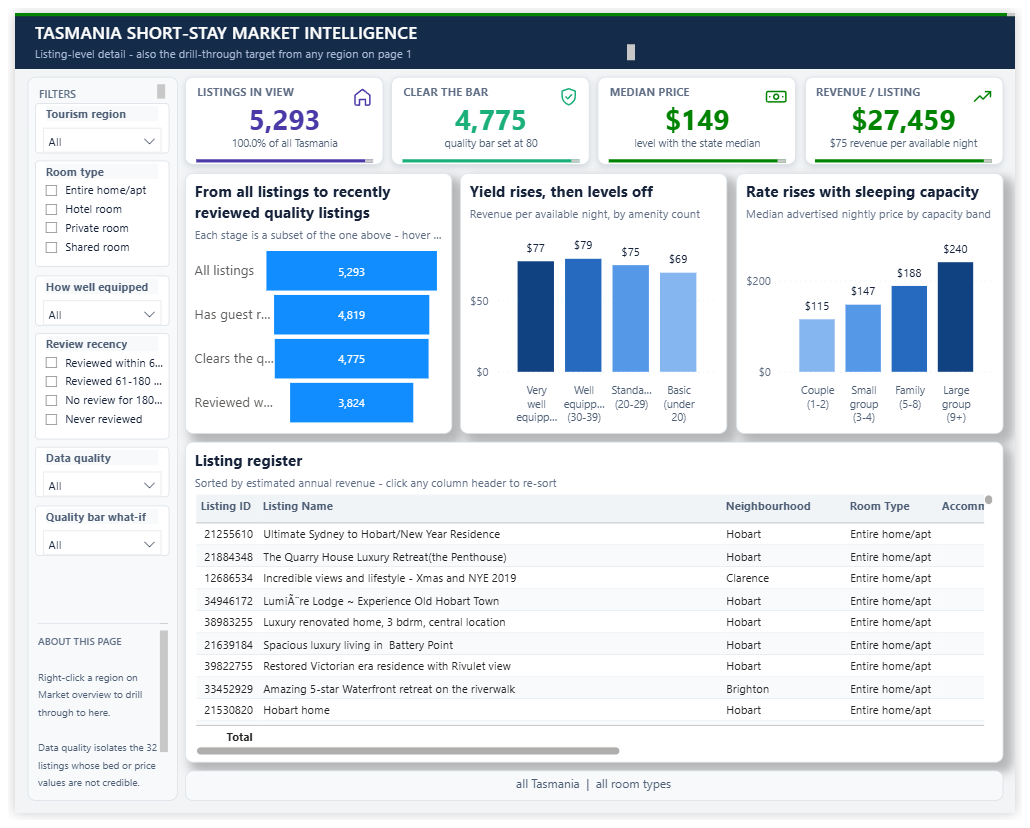

The dashboard page shown, as its layout file describes it:
{"tool":"powerbi","page":{"name":"Listing explorer","canvas":[1000,800],"ordinal":3},"visuals":[{"type":"textbox","box":[0,0,1000,56],"z":47},{"type":"textbox","box":[0,0,1000,3],"z":48},{"type":"textbox","box":[12,64,150,724],"z":49},{"type":"textbox","box":[22,610,130,1],"z":50},{"type":"textbox","box":[170,64,198.5,88],"z":51},{"type":"textbox","box":[181,146,176.5,3],"z":52},{"type":"textbox","box":[376.5,64,198.5,88],"z":53},{"type":"textbox","box":[387.5,146,176.5,3],"z":54},{"type":"textbox","box":[583,64,198.5,88],"z":55},{"type":"textbox","box":[594,146,176.5,3],"z":56},{"type":"textbox","box":[789.5,64,198.5,88],"z":57},{"type":"textbox","box":[800.5,146,176.5,3],"z":58},{"type":"textbox","box":[20,7,600,22],"z":183},{"type":"textbox","box":[20,31,600,16],"z":184},{"type":"textbox","box":[24,71,126,14],"z":185},{"type":"slicer","fields":{"Values":["Geography.Region"]},"box":[20,90,134,50],"z":186},{"type":"slicer","fields":{"Values":["Listing.Room Type"]},"box":[20,148,134,106],"z":187},{"type":"slicer","fields":{"Values":["Listing.Amenity Band"]},"box":[20,262,134,50],"z":188},{"type":"slicer","fields":{"Values":["Listing.Listing Status"]},"box":[20,320,134,106],"z":189},{"type":"slicer","fields":{"Values":["Listing.Data Quality Flag"]},"box":[20,434,134,50],"z":190},{"type":"slicer","fields":{"Values":["Rating Threshold.Minimum Guest Rating"]},"box":[20,492,134,50],"z":191},{"type":"textbox","box":[22,618,130,160],"z":192},{"type":"card","title":"LISTINGS IN VIEW","fields":{"Values":["Listing.Total Listings"]},"box":[171,66,196.5,56],"z":193},{"type":"card","fields":{"Values":["Listing.KPI Listings Context"]},"box":[171,123,196.5,21],"z":194},{"type":"image","box":[336.5,72,22,22],"z":195},{"type":"card","title":"CLEAR THE BAR","fields":{"Values":["Listing.Listings Above Rating Bar"]},"box":[377.5,66,196.5,56],"z":196},{"type":"card","fields":{"Values":["Listing.KPI Bar Context"]},"box":[377.5,123,196.5,21],"z":197},{"type":"image","box":[543,72,22,22],"z":198},{"type":"card","title":"MEDIAN PRICE","fields":{"Values":["Listing.Median Nightly Price"]},"box":[584,66,196.5,56],"z":199},{"type":"card","fields":{"Values":["Listing.KPI Price Context"]},"box":[584,123,196.5,21],"z":200},{"type":"image","box":[749.5,72,22,22],"z":201},{"type":"card","title":"REVENUE / LISTING","fields":{"Values":["Listing.Est. Revenue per Listing"]},"box":[790.5,66,196.5,56],"z":202},{"type":"card","fields":{"Values":["Listing.KPI Yield Context"]},"box":[790.5,123,196.5,21],"z":203},{"type":"image","box":[956,72,22,22],"z":204},{"type":"funnel","title":"From all listings to recently reviewed quality listings","fields":{"Category":["Funnel Stage.Stage"],"Y":["Listing.Funnel Value"]},"box":[170,160,267.3,261],"z":205},{"type":"clusteredColumnChart","title":"Yield rises, then levels off","fields":{"Category":["Listing.Amenity Band"],"Y":["Listing.Avg RevPAN"]},"box":[445.3,160,267.3,261],"z":206},{"type":"clusteredColumnChart","title":"Rate rises with sleeping capacity","fields":{"Category":["Listing.Capacity Band"],"Y":["Listing.Median Nightly Price"]},"box":[720.7,160,267.3,261],"z":207},{"type":"tableEx","title":"Listing register","fields":{"Values":["Listing.Listing ID","Listing.Listing Name","Geography.Neighbourhood","Listing.Room Type","Listing.Accommodates","Listing.Median Nightly Price","Listing.Est. Occupancy Rate","Listing.Est. Annual Revenue","Listing.Avg Guest Rating","Listing.Listing Performance Flag"]},"box":[170,429,818,321],"z":208},{"type":"card","fields":{"Values":["Listing.Selection Context"]},"box":[170,758,818,30],"z":209},{"type":"actionButton","box":[626,15,84,26],"z":9500},{"type":"actionButton","box":[716,15,84,26],"z":9500},{"type":"actionButton","box":[806,15,84,26],"z":9500},{"type":"actionButton","box":[896,15,84,26],"z":9500},{"type":"actionButton","box":[20,552,134,28],"z":9500}]}

Visuals, with their boxes in screenshot pixels (x1, y1, x2, y2), scaled from the page's 1000x800 canvas onto the 1030x828 screenshot:
textbox: left=0, top=0, right=1029, bottom=58
textbox: left=0, top=0, right=1029, bottom=3
textbox: left=12, top=66, right=167, bottom=816
textbox: left=23, top=631, right=157, bottom=632
textbox: left=175, top=66, right=380, bottom=157
textbox: left=186, top=151, right=368, bottom=154
textbox: left=388, top=66, right=592, bottom=157
textbox: left=399, top=151, right=581, bottom=154
textbox: left=600, top=66, right=805, bottom=157
textbox: left=612, top=151, right=794, bottom=154
textbox: left=813, top=66, right=1018, bottom=157
textbox: left=825, top=151, right=1006, bottom=154
textbox: left=21, top=7, right=639, bottom=30
textbox: left=21, top=32, right=639, bottom=49
textbox: left=25, top=73, right=154, bottom=88
slicer - Geography.Region: left=21, top=93, right=159, bottom=145
slicer - Listing.Room Type: left=21, top=153, right=159, bottom=263
slicer - Listing.Amenity Band: left=21, top=271, right=159, bottom=323
slicer - Listing.Listing Status: left=21, top=331, right=159, bottom=441
slicer - Listing.Data Quality Flag: left=21, top=449, right=159, bottom=501
slicer - Rating Threshold.Minimum Guest Rating: left=21, top=509, right=159, bottom=561
textbox: left=23, top=640, right=157, bottom=805
"LISTINGS IN VIEW" card: left=176, top=68, right=379, bottom=126
card - Listing.KPI Listings Context: left=176, top=127, right=379, bottom=149
image: left=347, top=75, right=369, bottom=97
"CLEAR THE BAR" card: left=389, top=68, right=591, bottom=126
card - Listing.KPI Bar Context: left=389, top=127, right=591, bottom=149
image: left=559, top=75, right=582, bottom=97
"MEDIAN PRICE" card: left=602, top=68, right=804, bottom=126
card - Listing.KPI Price Context: left=602, top=127, right=804, bottom=149
image: left=772, top=75, right=795, bottom=97
"REVENUE / LISTING" card: left=814, top=68, right=1017, bottom=126
card - Listing.KPI Yield Context: left=814, top=127, right=1017, bottom=149
image: left=985, top=75, right=1007, bottom=97
"From all listings to recently reviewed quality listings" funnel: left=175, top=166, right=450, bottom=436
"Yield rises, then levels off" clusteredColumnChart: left=459, top=166, right=734, bottom=436
"Rate rises with sleeping capacity" clusteredColumnChart: left=742, top=166, right=1018, bottom=436
"Listing register" tableEx: left=175, top=444, right=1018, bottom=776
card - Listing.Selection Context: left=175, top=785, right=1018, bottom=816
actionButton: left=645, top=16, right=731, bottom=42
actionButton: left=737, top=16, right=824, bottom=42
actionButton: left=830, top=16, right=917, bottom=42
actionButton: left=923, top=16, right=1009, bottom=42
actionButton: left=21, top=571, right=159, bottom=600
